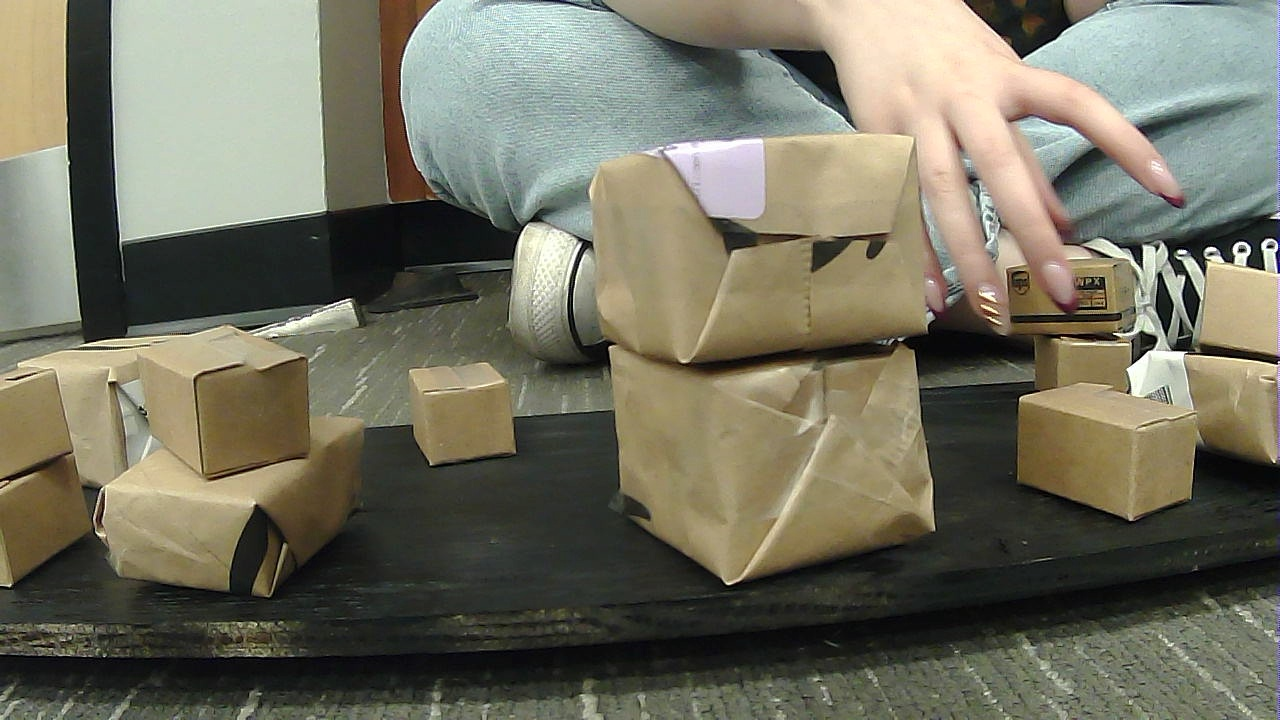package: (590, 123, 945, 348), (605, 352, 944, 586), (93, 410, 356, 595), (20, 330, 190, 488), (138, 320, 307, 476), (1016, 381, 1186, 522), (399, 367, 516, 469), (1171, 352, 1273, 466), (1020, 332, 1161, 413), (995, 249, 1132, 332), (1177, 259, 1275, 360), (3, 481, 93, 590), (1, 375, 80, 481)
stacked: (573, 144, 939, 585), (115, 324, 366, 603), (1158, 261, 1274, 462), (1005, 253, 1133, 434), (3, 365, 95, 581)
